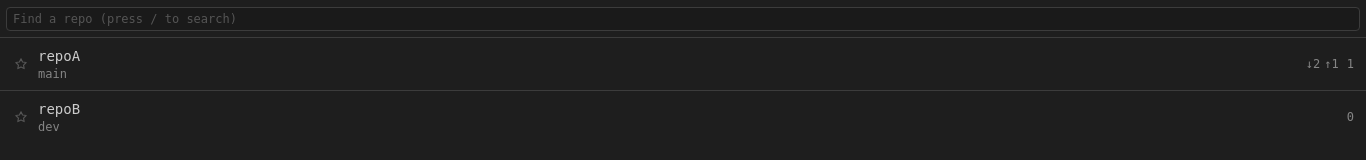
Test: RepoOverviewList › typing in the filter box narrows the list to matching repo names
The image size is (1366, 160).
Type "B" into the field with placeholder "Find a repo (press / to search)" at (683, 19), box [6,7,1360,31]
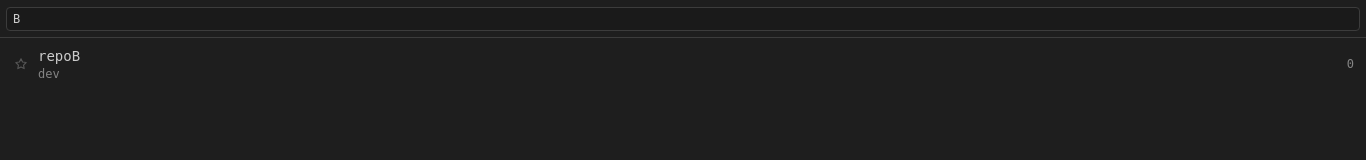
Expected: the text "repoB" is shown, [38,48,80,64]
Expected: the button "repoA" is gone
